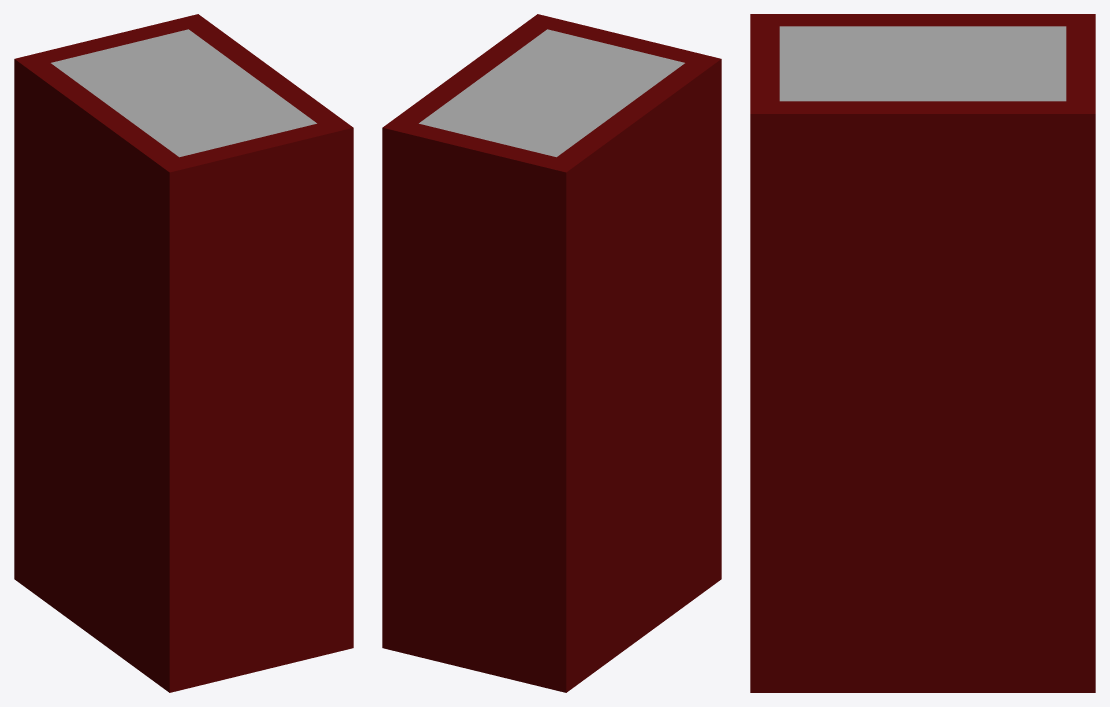
File: PlayerHand.fbx
3 renders of one model, left to right at view 1: azimuth 30°, elevation 25°; view 2: azimuth 150°, elevation 25°; view 3: azimuth 270°, elevation 25°, orthographic. The views are drawn at different scales.
Visible parts, largest first — view 1: polySurface7; view 2: polySurface7; view 3: polySurface7.
Boxes of the visible parts, box(x1,y1,x2,y2) form: polySurface7: box(14, 14, 353, 692); polySurface7: box(382, 14, 721, 692); polySurface7: box(750, 14, 1095, 692).
Bounding box in the file's own units: 0.6559 × 1.77 × 0.9594.
